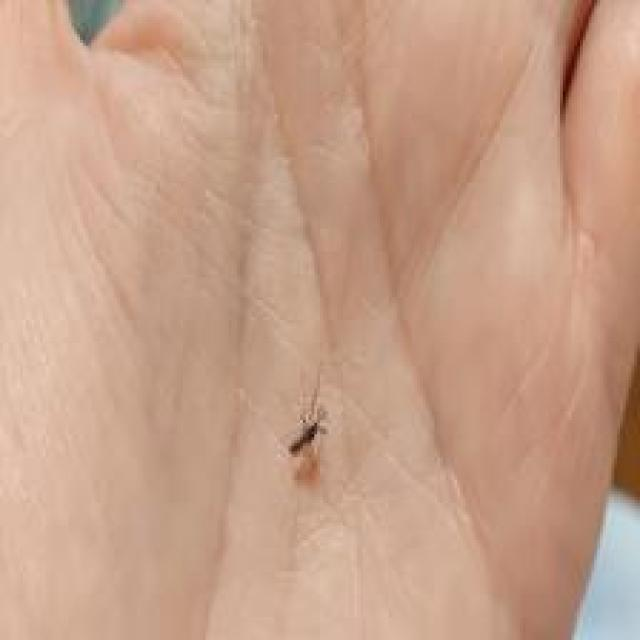Aedes albopictus: (287, 398, 330, 456)
